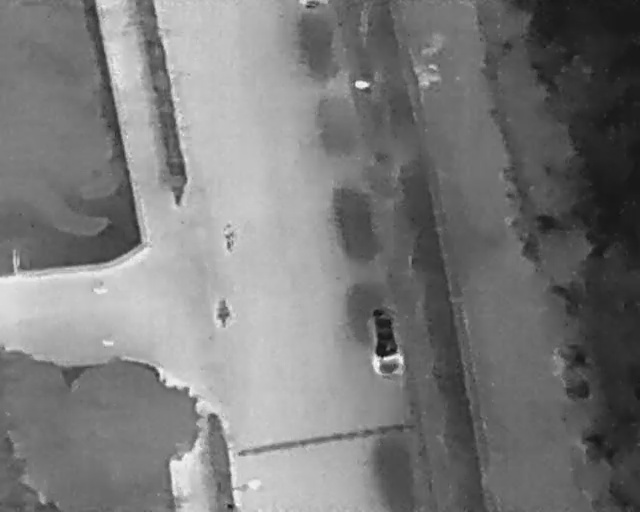Car: (368, 307, 405, 380), (297, 0, 329, 6)
Person: (216, 297, 231, 326), (223, 221, 235, 251)
